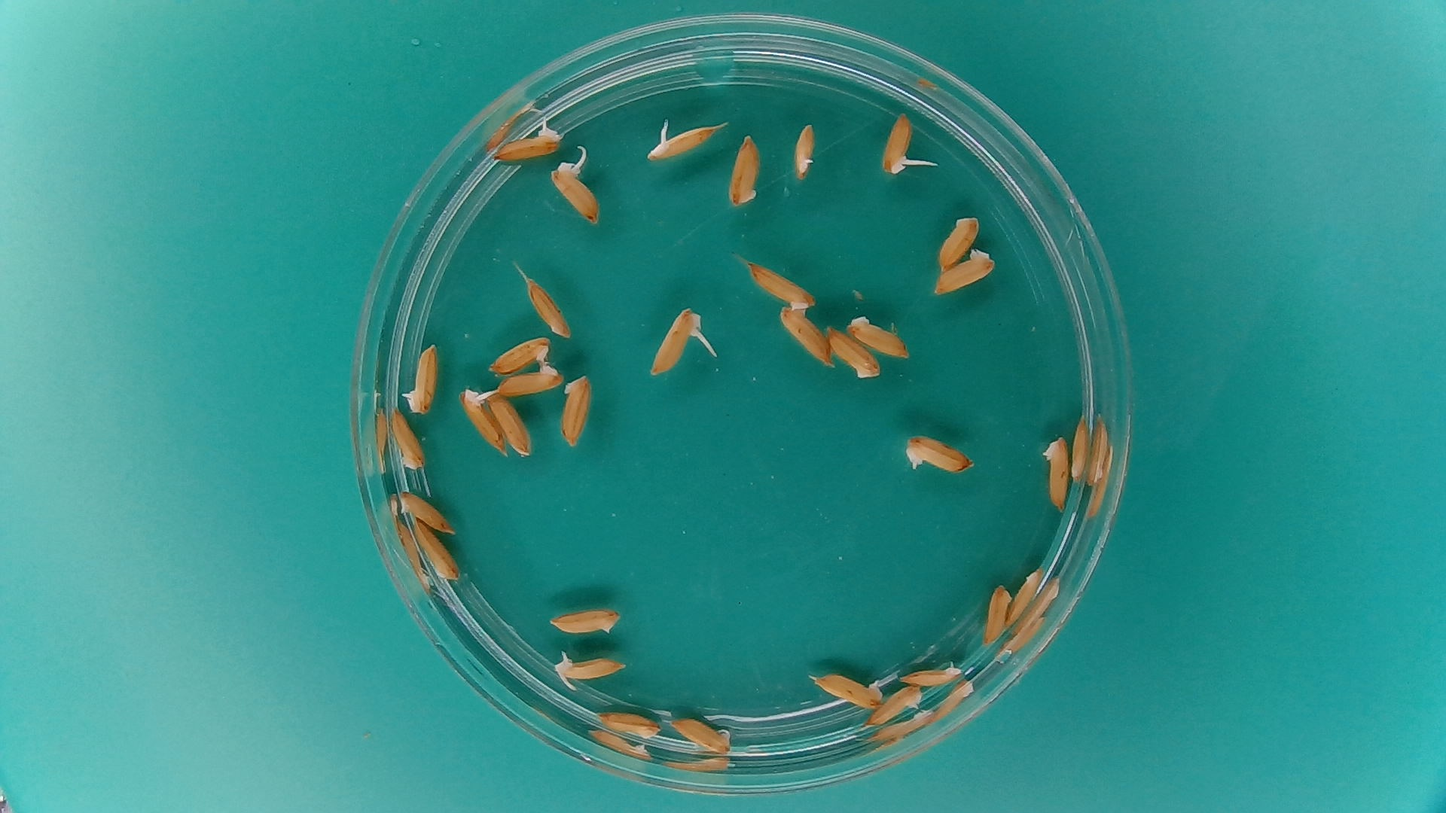no: (745, 258, 818, 312), (777, 303, 834, 369), (410, 518, 462, 585), (931, 245, 997, 297), (807, 666, 886, 709), (825, 324, 880, 382), (667, 713, 736, 759), (397, 486, 458, 537), (862, 681, 925, 730), (487, 391, 533, 458), (846, 315, 914, 360), (484, 332, 554, 375), (726, 132, 764, 211), (525, 278, 574, 338), (545, 603, 623, 639), (1037, 433, 1072, 513), (491, 360, 566, 397), (934, 211, 981, 270), (559, 371, 594, 450), (388, 412, 431, 475), (1005, 562, 1046, 628), (979, 580, 1012, 649), (595, 706, 664, 739), (898, 659, 966, 690), (1069, 412, 1094, 484)
yes: (643, 306, 703, 379), (456, 382, 508, 459), (642, 115, 723, 163), (898, 431, 977, 477), (401, 339, 443, 417), (549, 646, 630, 686), (548, 163, 597, 228), (491, 123, 563, 163), (877, 111, 917, 180), (789, 118, 819, 182)
